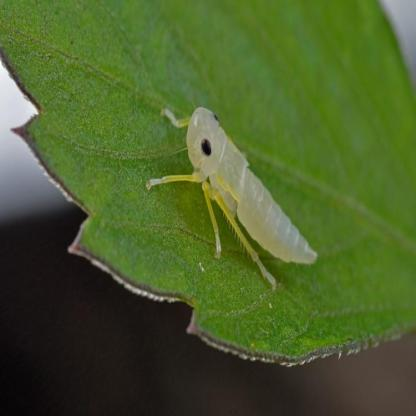grasshopper: (154, 95, 322, 278)
